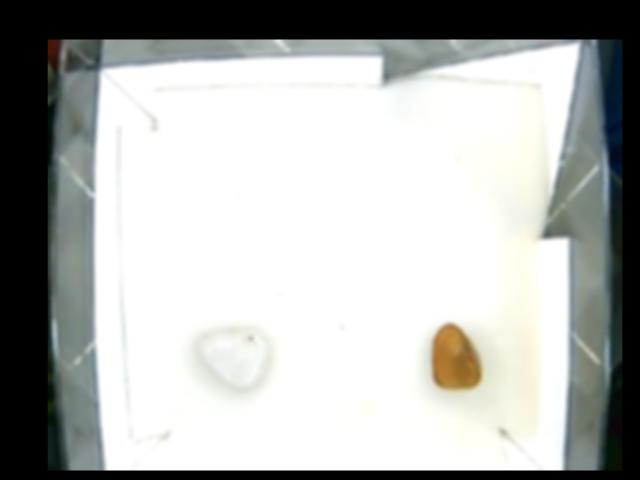Pebble: (198, 328, 271, 392), (431, 321, 483, 389)
